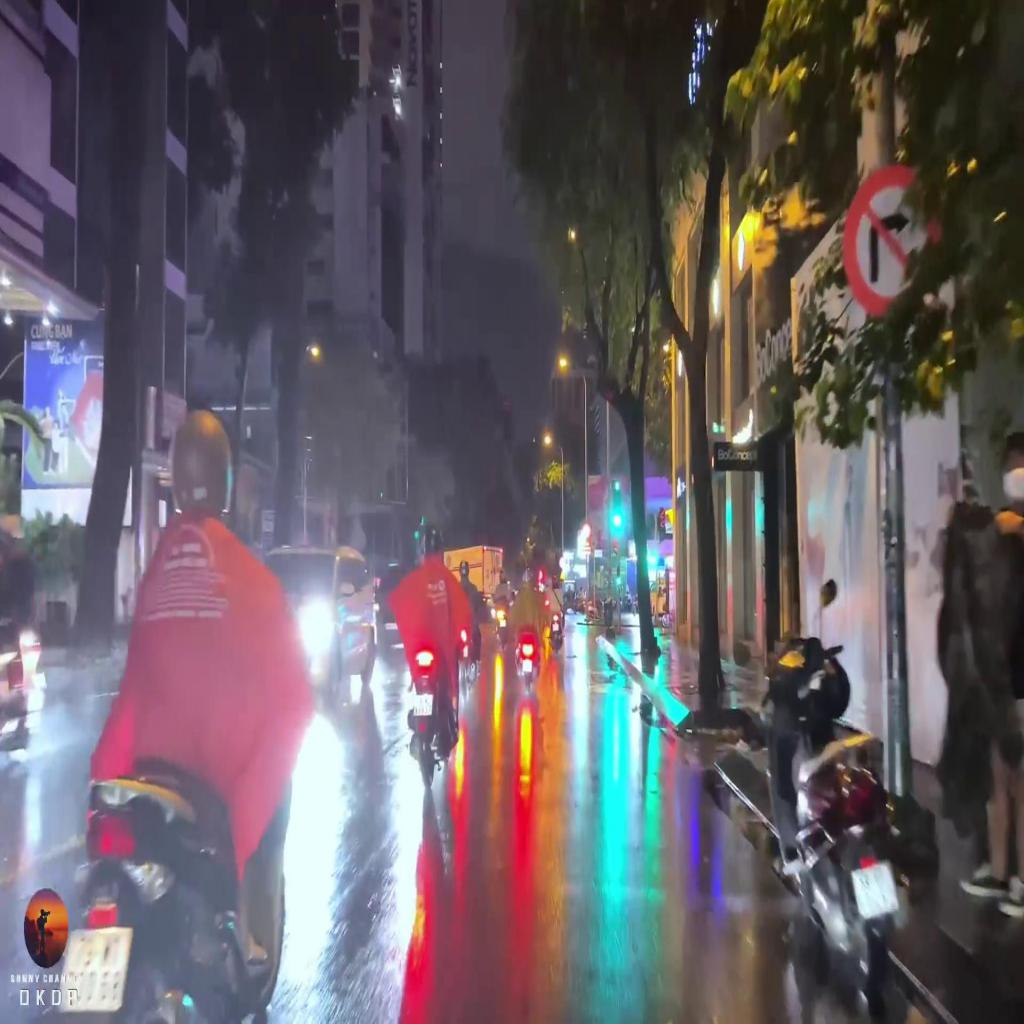cam_re_phai: (843, 168, 939, 316)
